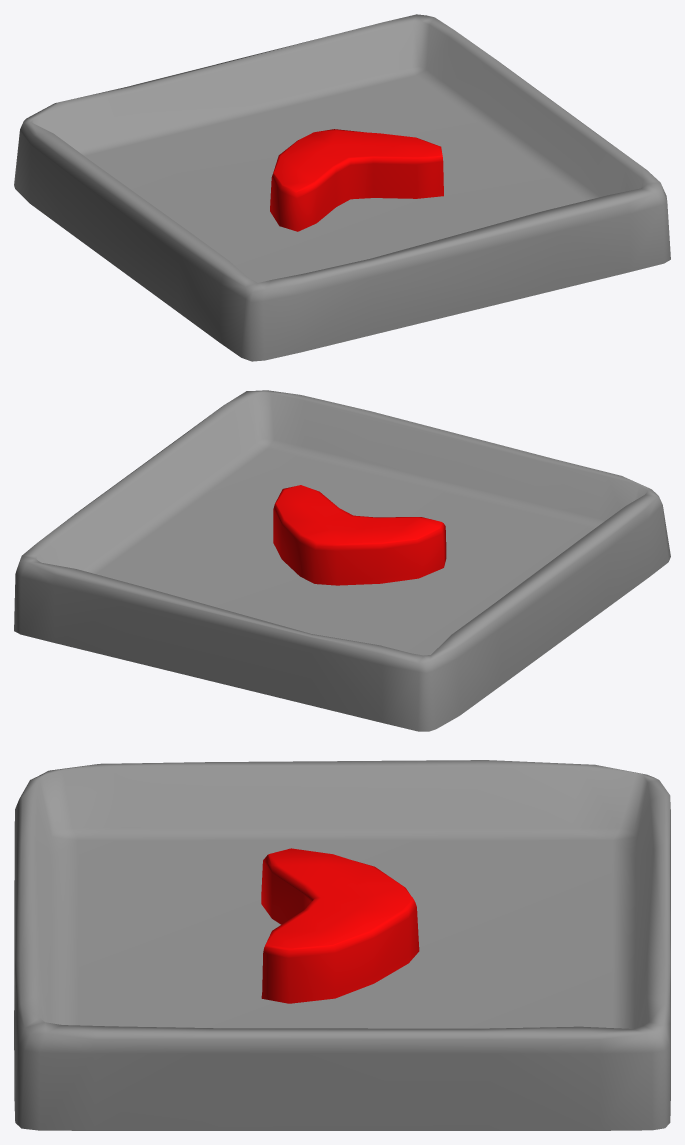
File: Temple_Recepticle_C.FBX
The picture shows the model from 3 angles, top to bottom: view 1: azimuth 30°, elevation 25°; view 2: azimuth 150°, elevation 25°; view 3: azimuth 270°, elevation 25°; orthographic projection. The views are drawn at different scales.
Visible parts, largest first — view 1: Recepticle_C; view 2: Recepticle_C; view 3: Recepticle_C.
Boxes of the visible parts, bbox=[...] form: Recepticle_C: bbox=[14, 14, 670, 361]; Recepticle_C: bbox=[14, 390, 670, 731]; Recepticle_C: bbox=[14, 760, 670, 1130].
Size of the model in its own units: 296 by 48.64 by 296.
